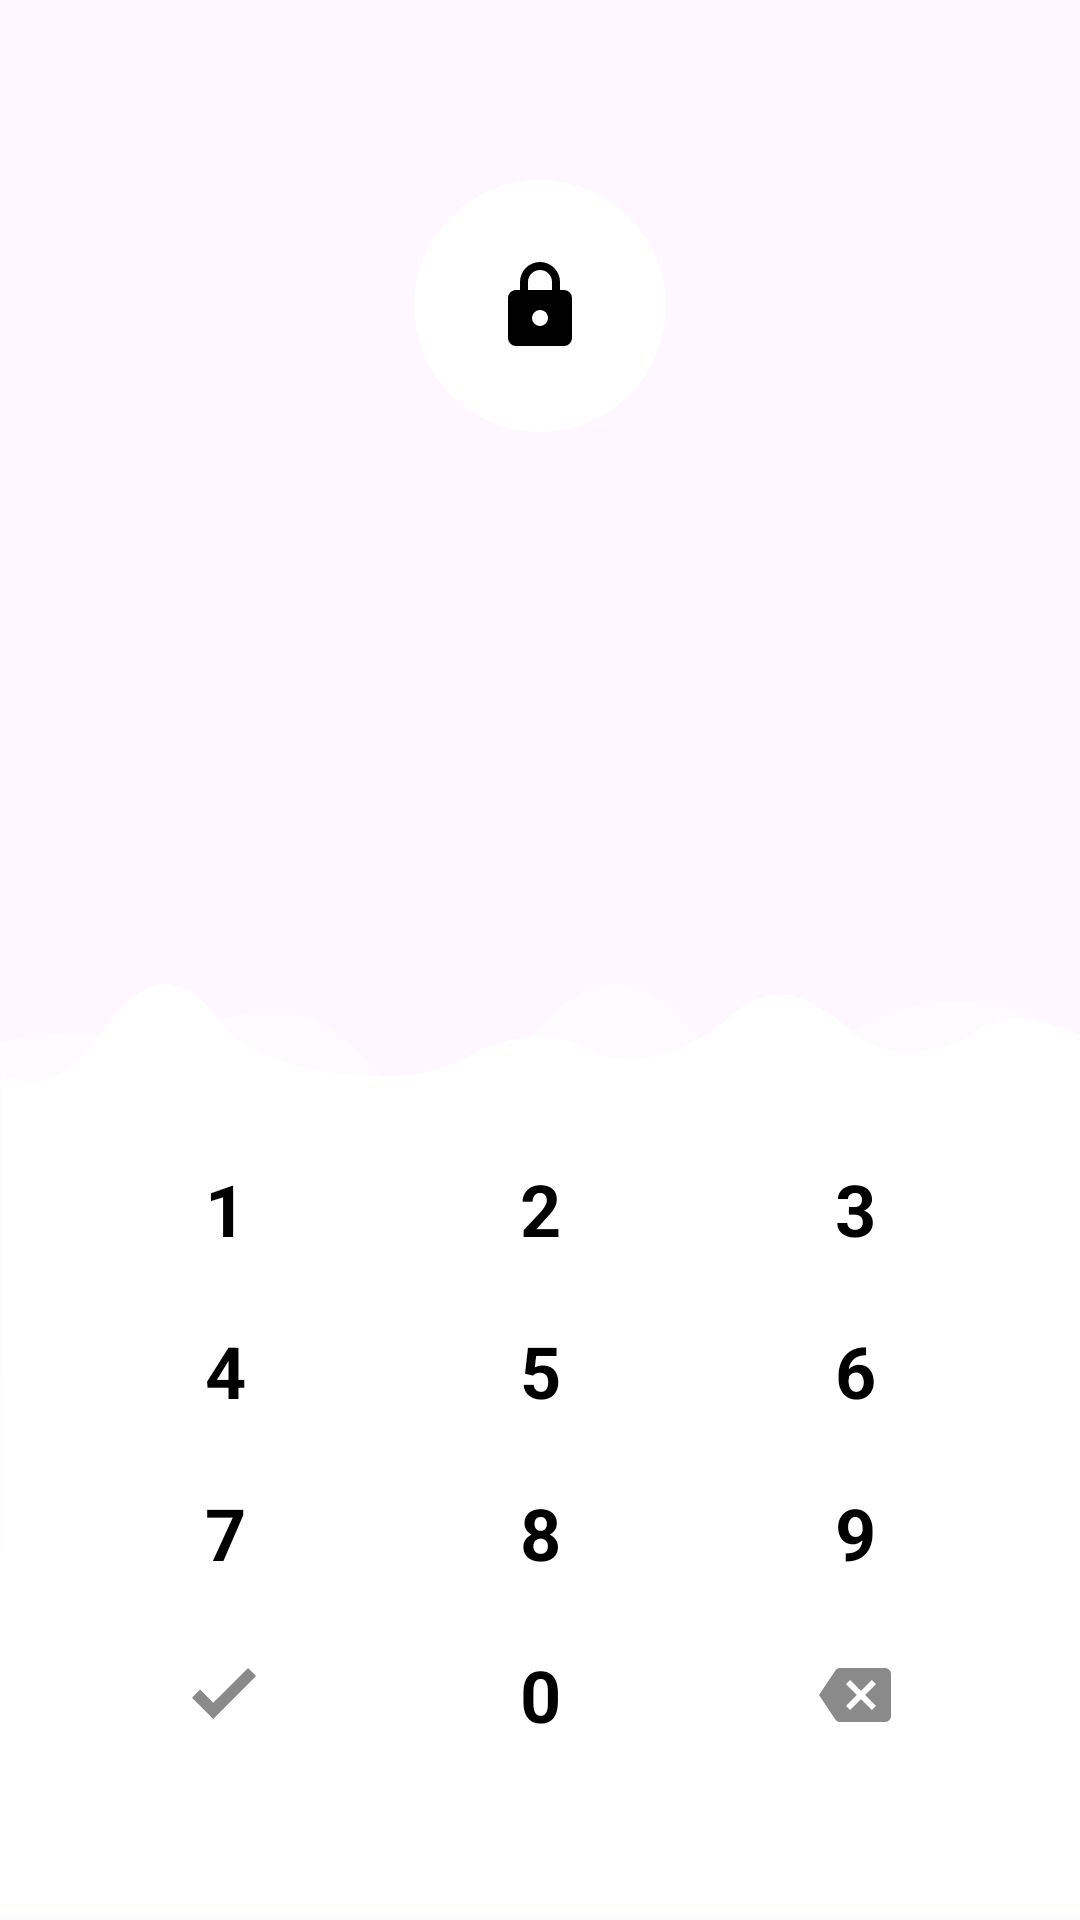

Icon bounding boxes for this 1080*1920 phone screenshot, format Rect(x1, y1, x2, y2):
pcv backspace: Rect(819, 1668, 891, 1722)
pcv check: Rect(192, 1668, 256, 1719)
pcv lock: Rect(508, 262, 572, 346)
